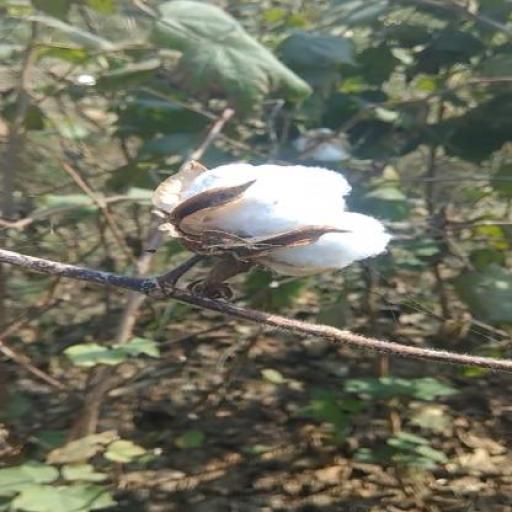cotton_ready: (118, 133, 387, 333)
